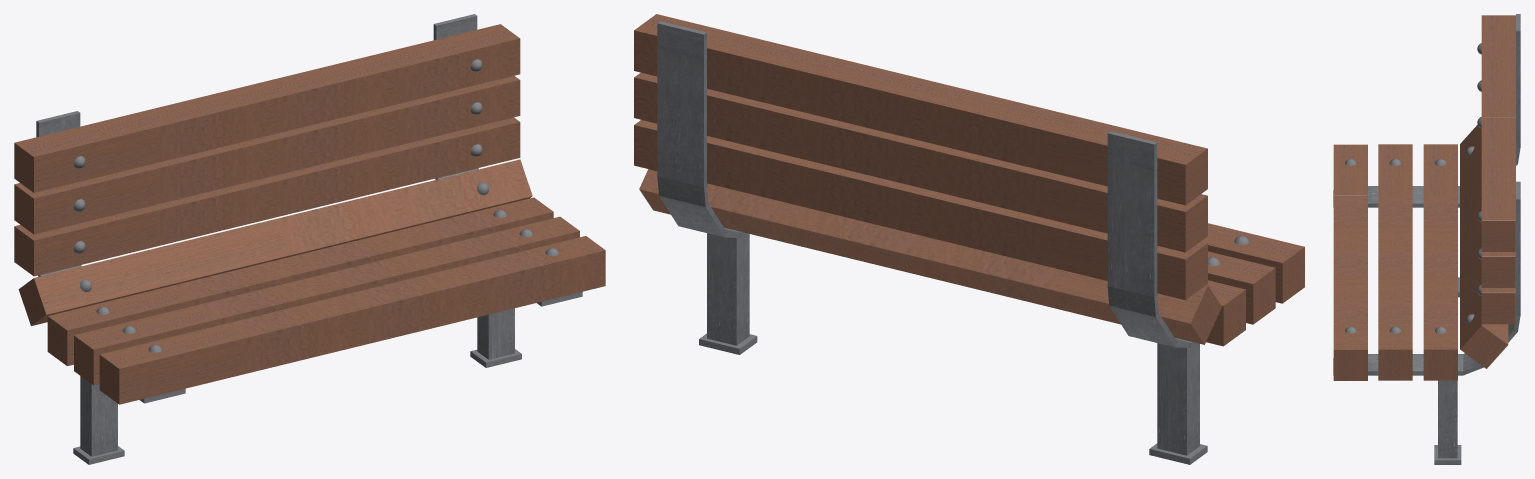
The model's file is park_bench.fbx.
3 views of the same model, side by side, from view 1: azimuth 30°, elevation 25°; view 2: azimuth 150°, elevation 25°; view 3: azimuth 270°, elevation 25° (orthographic). The views are drawn at different scales.
Parts seen in each view (by area): view 1: park_bench; view 2: park_bench; view 3: park_bench.
Boxes of the visible parts, <box> form: park_bench: <box>14,14,605,464</box>; park_bench: <box>634,14,1304,464</box>; park_bench: <box>1333,14,1520,464</box>.
Bounding box in the file's own units: 14.23 × 8.62 × 5.47.
